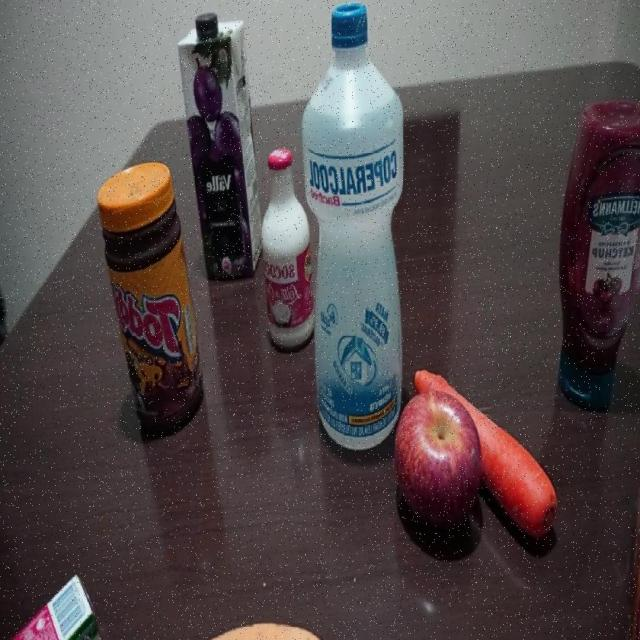AlcoholBottle: (300, 0, 408, 462)
Apple: (392, 390, 483, 533)
Banana: (198, 616, 326, 640)
Carrot: (481, 416, 559, 552)
ChocolatePowder: (96, 161, 205, 433)
CoconutMilk: (261, 146, 317, 352)
Cracker: (631, 421, 640, 640)
Ketchup: (552, 94, 640, 413)
Toothpaste: (10, 573, 109, 640)
